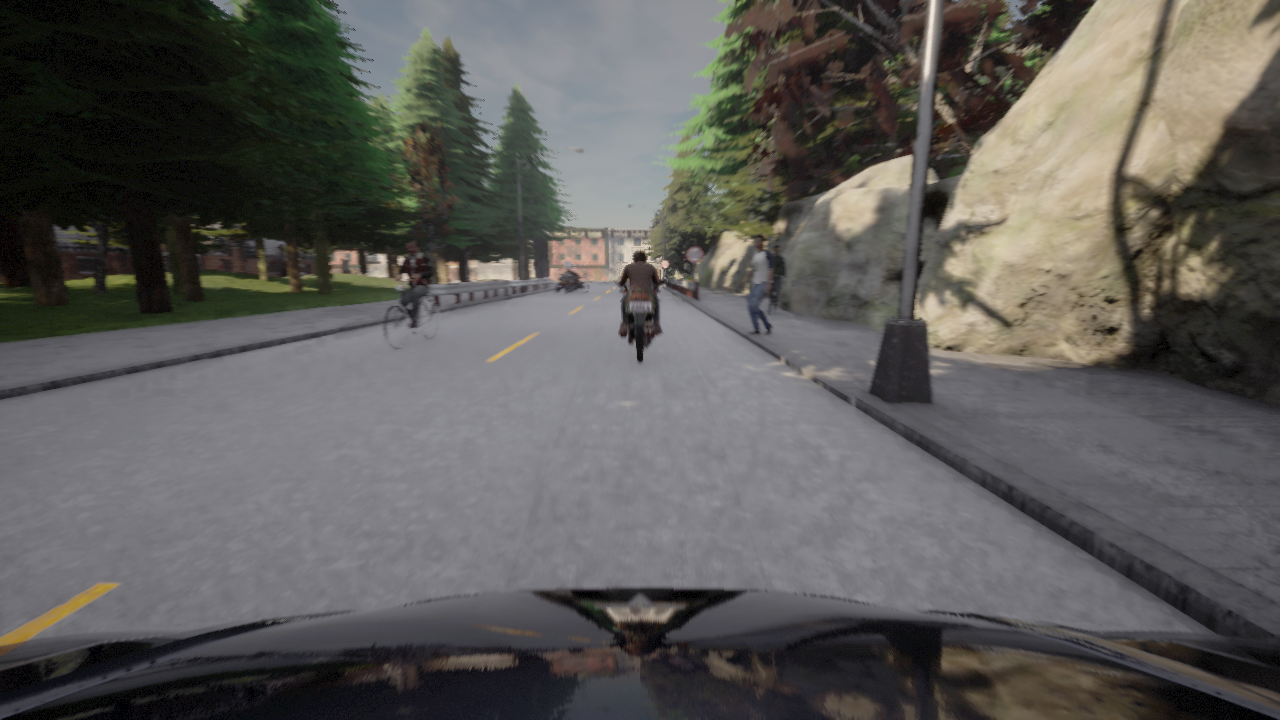cyclist: (0, 588, 1279, 719), (614, 280, 665, 363), (384, 278, 437, 349), (555, 273, 589, 292), (560, 273, 573, 294)
pedestrian: (741, 234, 773, 334), (767, 244, 786, 315)
